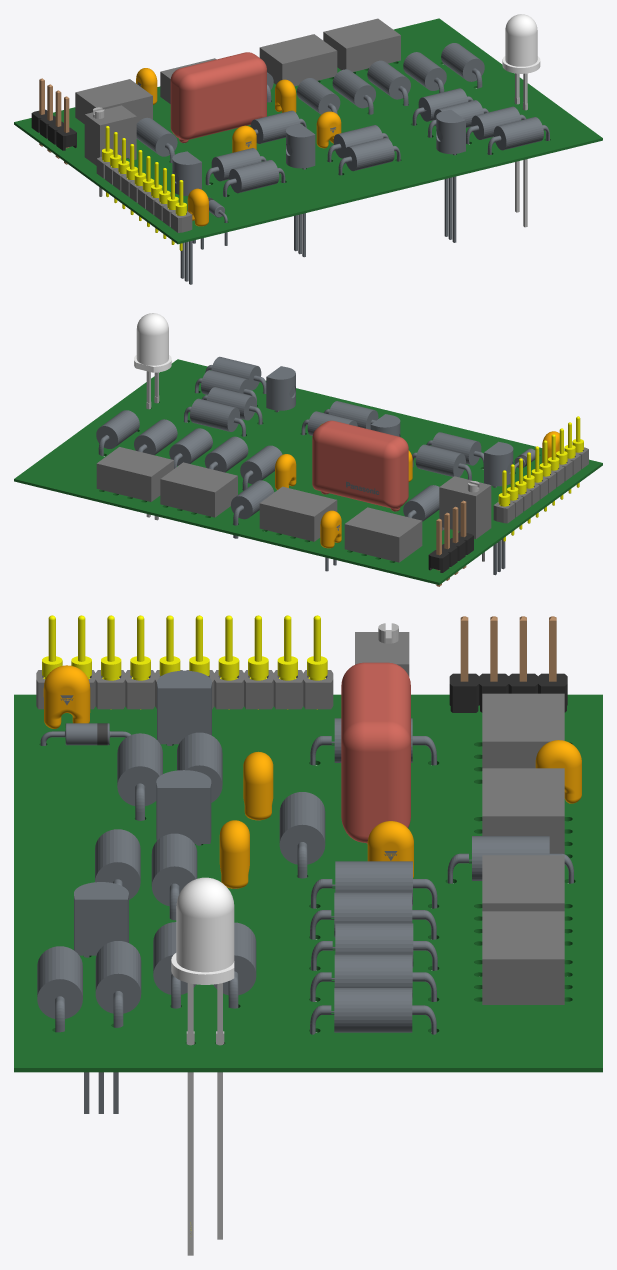
File: PCB.gltf
3 views of the same model, one above another, from view 1: azimuth 30°, elevation 25°; view 2: azimuth 150°, elevation 25°; view 3: azimuth 270°, elevation 25° (orthographic). The views are drawn at different scales.
Visible parts, largest first — view 1: Open CASCADE STEP translator 7.5 74.1.1, Body, Extruded007, Extruded009, WP7113, Extruded008, KSC1008YBU_KSC1008YBU, _TS-110-G-A_socket, KSC1008YBU_KSC1008YBU001, KSC1008YBU_KSC1008YBU002, Exquisite Bombul (1)005, Exquisite Bombul (1)001 (+22 smaller); view 2: Open CASCADE STEP translator 7.5 74.1.1, Body, Extruded008, Extruded007, Extruded009, Extruded006, WP7113, _TS-110-G-A_socket, KSC1008YBU_KSC1008YBU002, Exquisite Bombul (1)015, Exquisite Bombul (1)006, Extruded003 (+19 smaller); view 3: Open CASCADE STEP translator 7.5 74.1.1, Body, WP7113, Extruded009, _TS-110-G-A_socket, Extruded006, Extruded008, Extruded007, KSC1008YBU_KSC1008YBU, Exquisite Bombul (1)010, KSC1008YBU_KSC1008YBU001, KSC1008YBU_KSC1008YBU002 (+23 smaller).
Boxes of the visible parts, x1=… form: Open CASCADE STEP translator 7.5 74.1.1: x1=14, y1=18, x2=602, y2=244; Body: x1=170, y1=52, x2=266, y2=142; Extruded007: x1=259, y1=34, x2=337, y2=86; Extruded009: x1=323, y1=18, x2=400, y2=71; WP7113: x1=502, y1=14, x2=540, y2=227; Extruded008: x1=75, y1=79, x2=152, y2=123; KSC1008YBU_KSC1008YBU: x1=436, y1=109, x2=465, y2=242; _TS-110-G-A_socket: x1=96, y1=157, x2=192, y2=232; KSC1008YBU_KSC1008YBU001: x1=286, y1=124, x2=315, y2=257; KSC1008YBU_KSC1008YBU002: x1=172, y1=151, x2=201, y2=284; Exquisite Bombul (1)005: x1=338, y1=137, x2=400, y2=175; Exquisite Bombul (1)001: x1=487, y1=117, x2=549, y2=154; Open CASCADE STEP translator 7.5 74.1.1: x1=14, y1=359, x2=602, y2=584; Body: x1=312, y1=420, x2=408, y2=511; Extruded008: x1=344, y1=507, x2=422, y2=562; Extruded007: x1=160, y1=462, x2=237, y2=517; Extruded009: x1=96, y1=447, x2=173, y2=501; Extruded006: x1=259, y1=486, x2=337, y2=541; WP7113: x1=134, y1=313, x2=171, y2=520; _TS-110-G-A_socket: x1=493, y1=447, x2=588, y2=523; KSC1008YBU_KSC1008YBU002: x1=484, y1=441, x2=513, y2=575; Exquisite Bombul (1)015: x1=184, y1=398, x2=245, y2=436; Exquisite Bombul (1)006: x1=412, y1=444, x2=471, y2=480; Extruded003: x1=442, y1=477, x2=487, y2=534; Open CASCADE STEP translator 7.5 74.1.1: x1=14, y1=694, x2=602, y2=1072; Body: x1=341, y1=662, x2=410, y2=844; WP7113: x1=171, y1=877, x2=234, y2=1255; Extruded009: x1=482, y1=911, x2=564, y2=1004; _TS-110-G-A_socket: x1=36, y1=670, x2=333, y2=709; Extruded006: x1=482, y1=768, x2=564, y2=853; Extruded008: x1=482, y1=693, x2=564, y2=768; Extruded007: x1=482, y1=855, x2=564, y2=911; KSC1008YBU_KSC1008YBU: x1=74, y1=882, x2=128, y2=1113; Exquisite Bombul (1)010: x1=310, y1=988, x2=436, y2=1034; KSC1008YBU_KSC1008YBU001: x1=156, y1=770, x2=211, y2=845; KSC1008YBU_KSC1008YBU002: x1=157, y1=670, x2=211, y2=745.
Bounding box in the file's own units: 0.0762 × 0.0356 × 0.0508.
